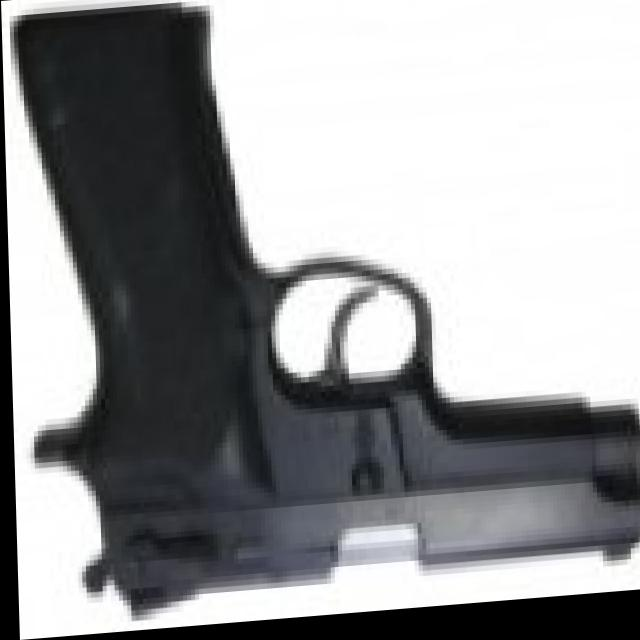handgun: (24, 0, 631, 638)
